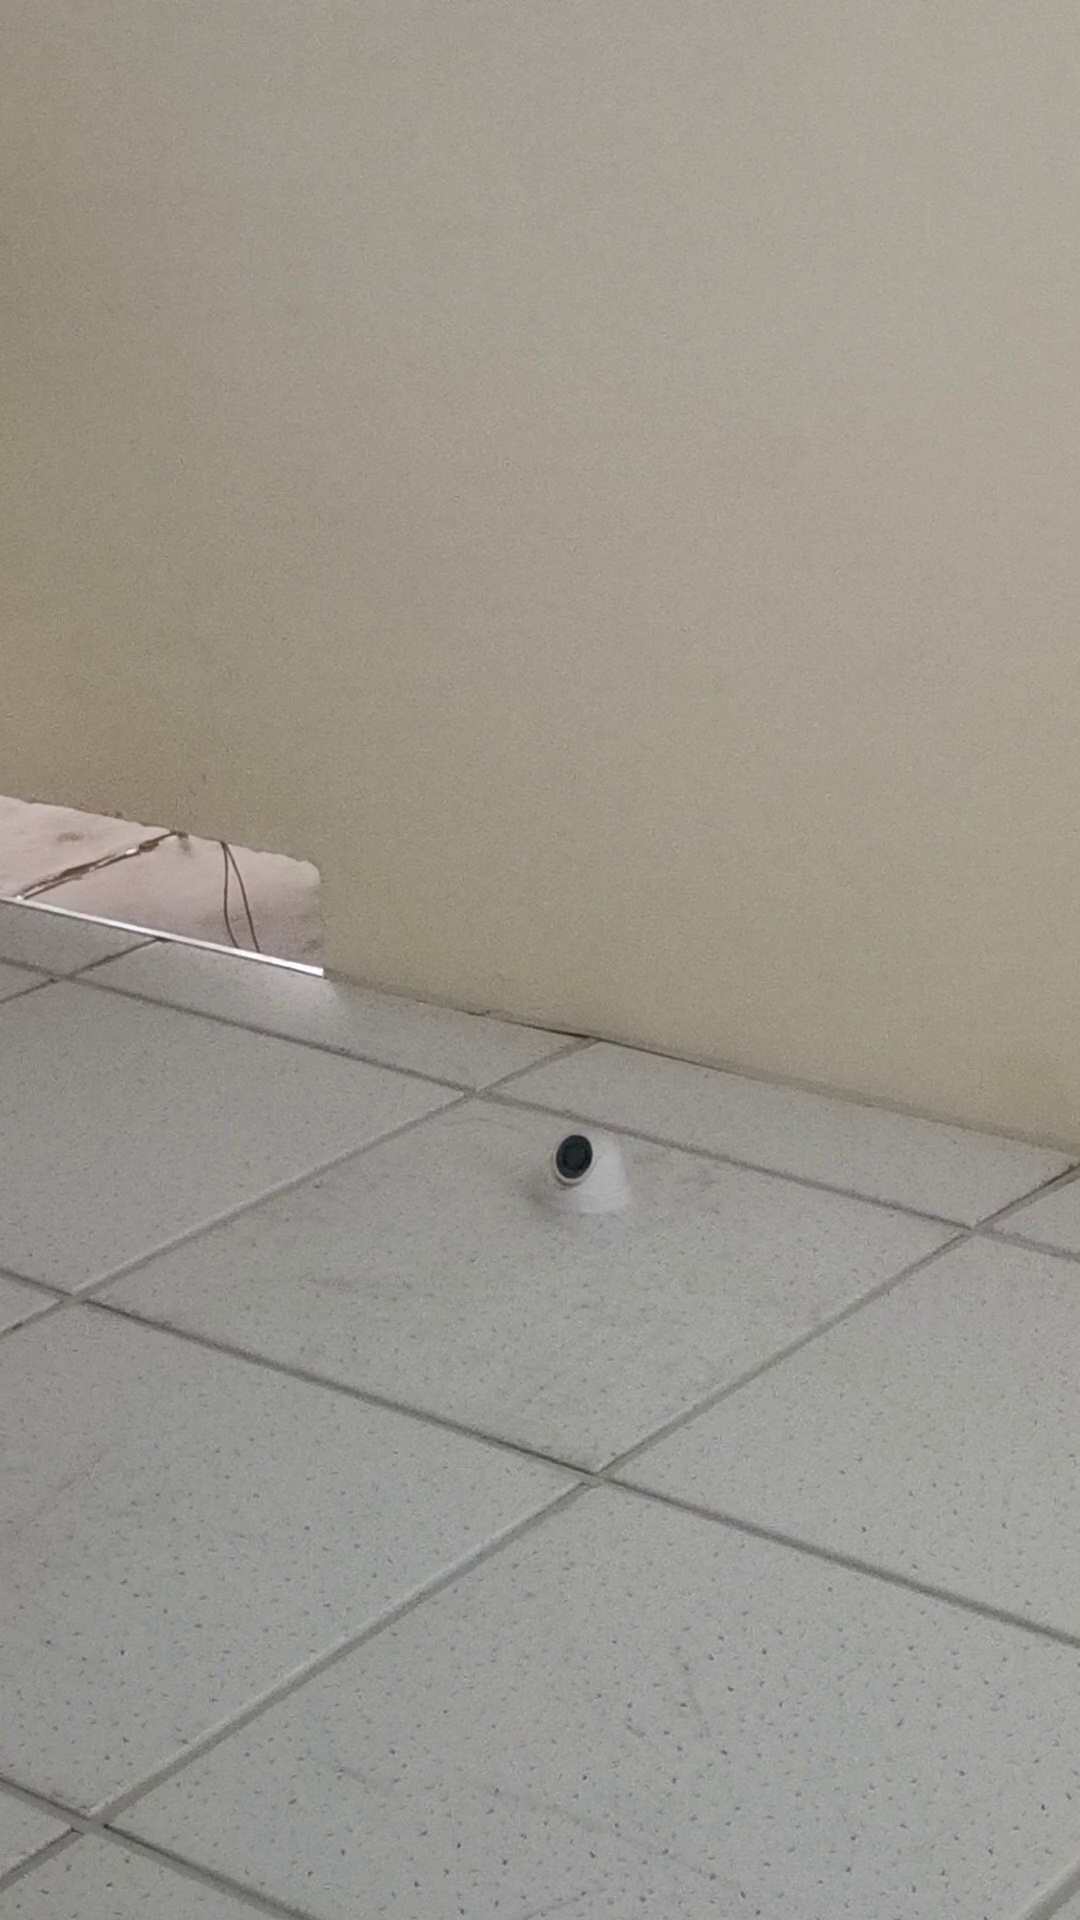cctv: (504, 1120, 640, 1226)
